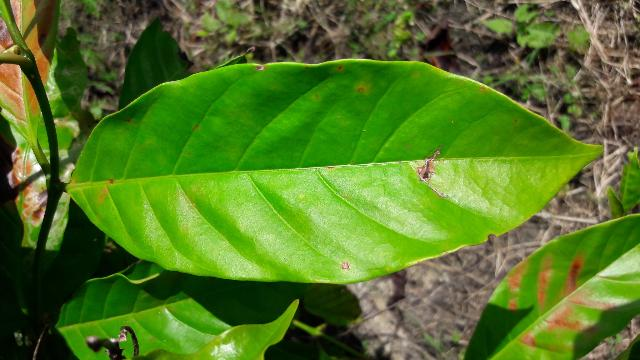rust_level_1: (74, 62, 602, 281)
